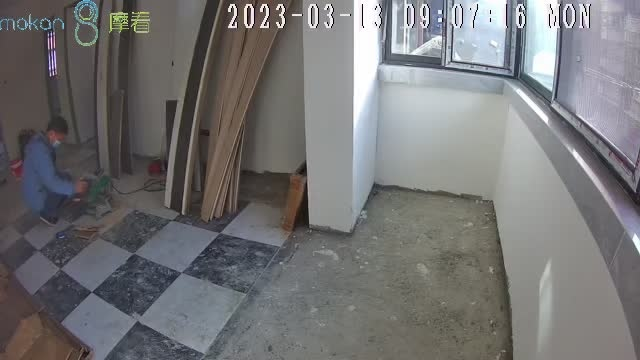people: (22, 117, 86, 225)
window: (527, 1, 640, 199), (381, 1, 523, 74)
